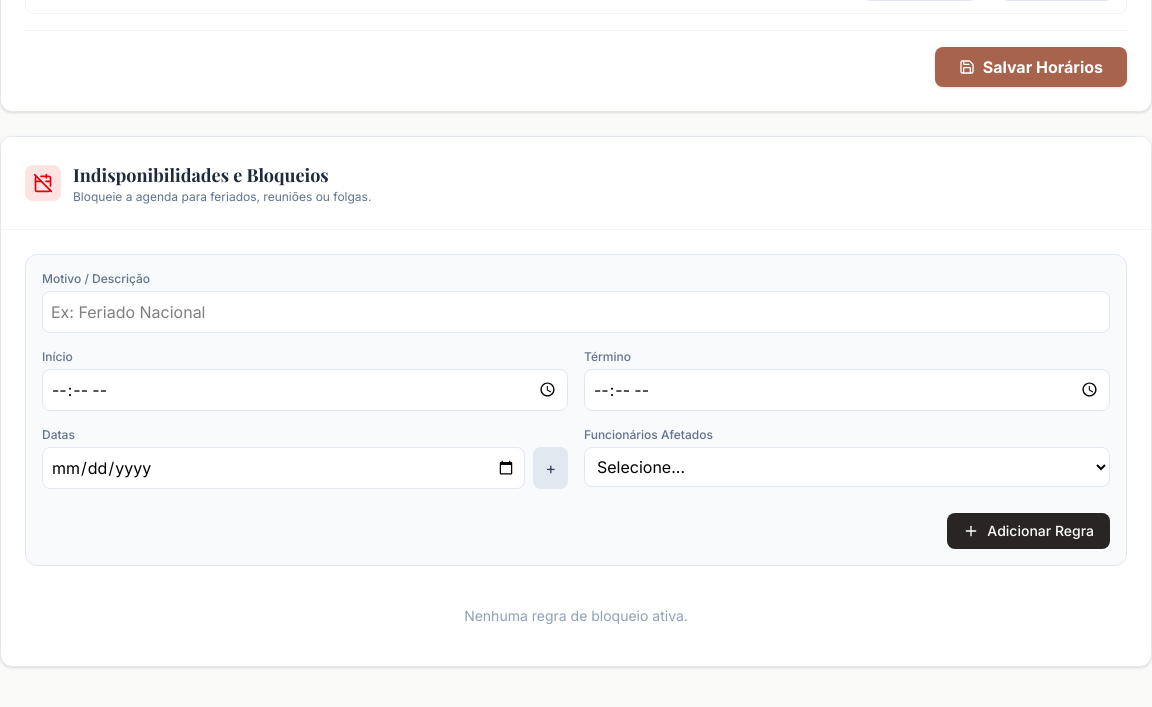
Test: pages/BusinessHoursSettings — regras de indisponibilidade › bloqueia o envio sem data selecionada
This screenshot has width=1152, height=707.
(page scrolled)
In the time field below "Início": (305,390) x1=42 y1=369 x2=568 y2=411, type "12:00"
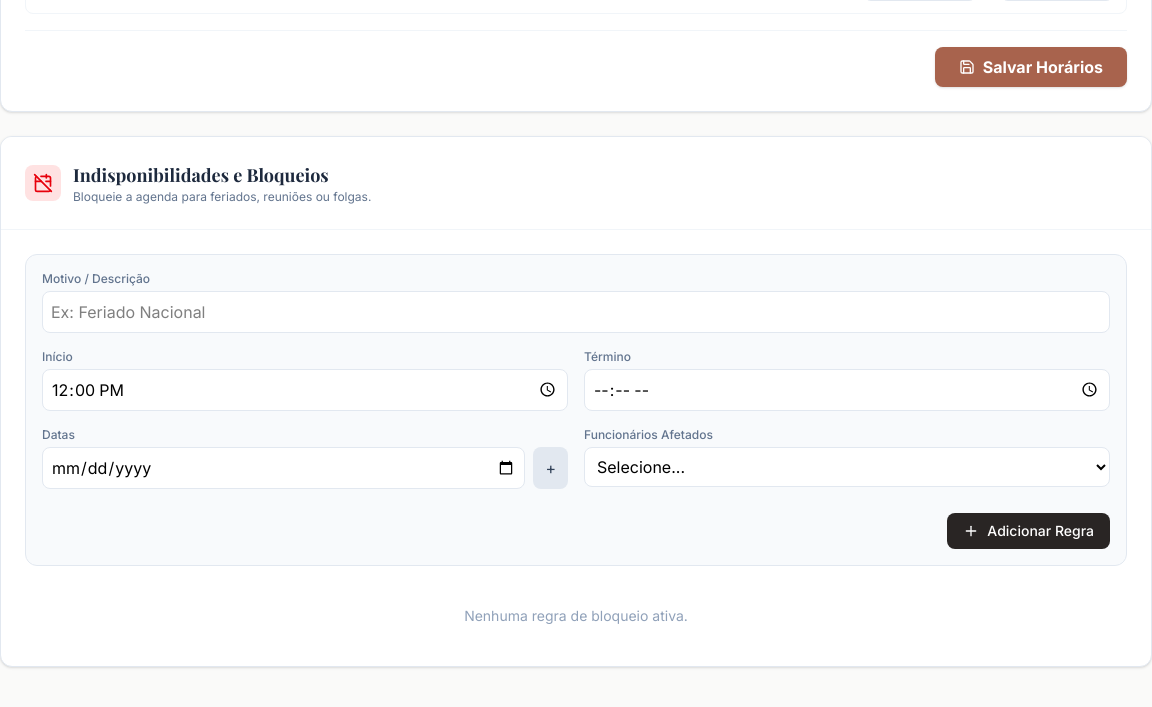
In the time field below "Término": (847,390) x1=584 y1=369 x2=1110 y2=411, type "13:00"
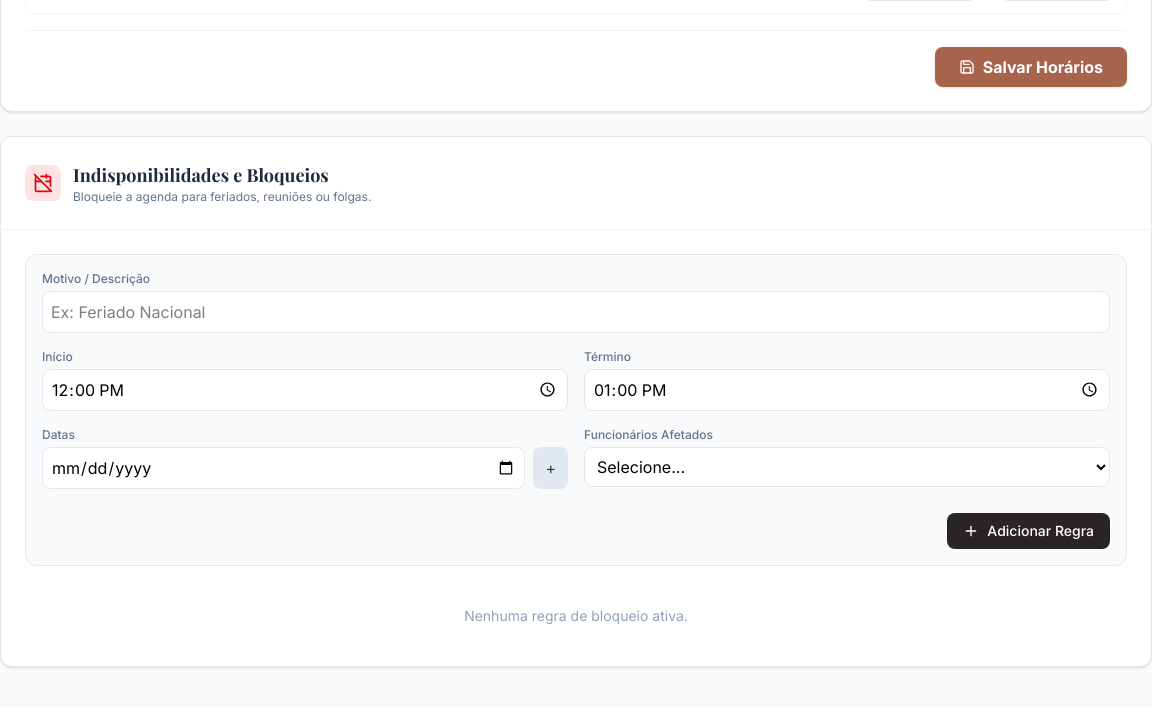
Click the button "Adicionar Regra": (1029,531) x1=947 y1=513 x2=1110 y2=549
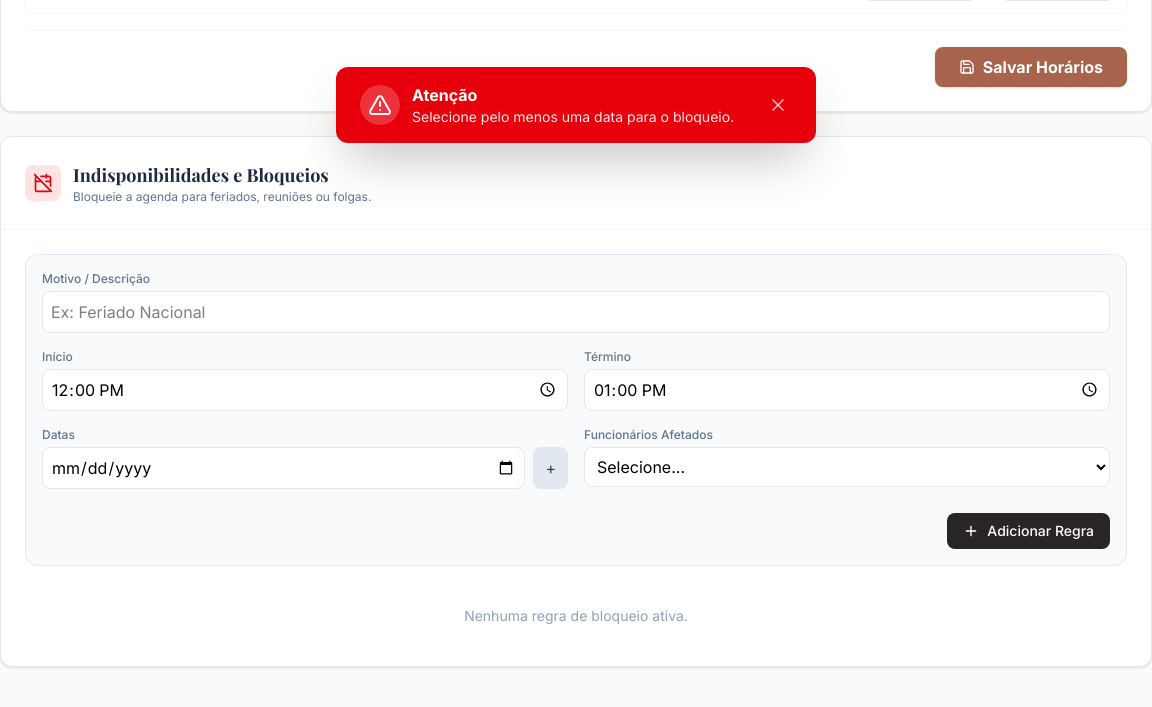
Check: the text "Selecione pelo menos uma data para o bloqueio." is shown, box x1=412 y1=107 x2=734 y2=127
